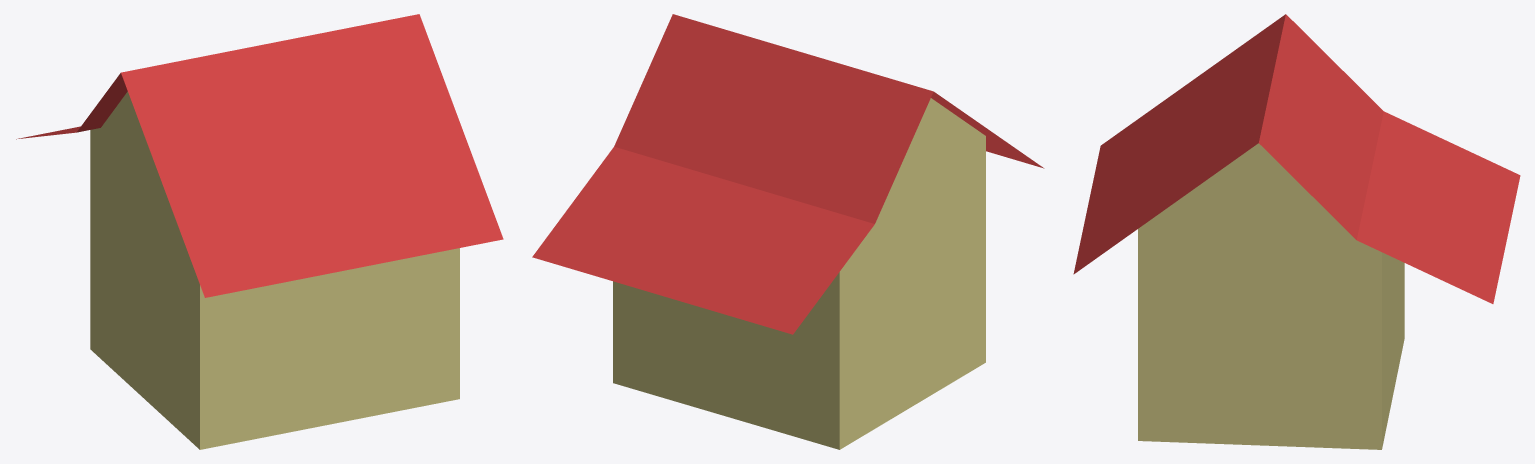
The picture shows the model from 3 angles, left to right: view 1: azimuth 30°, elevation 25°; view 2: azimuth 150°, elevation 25°; view 3: azimuth 270°, elevation 25°; orthographic projection. The views are drawn at different scales.
Size of the model in its own units: 14.87 by 19.39 by 14.78.
